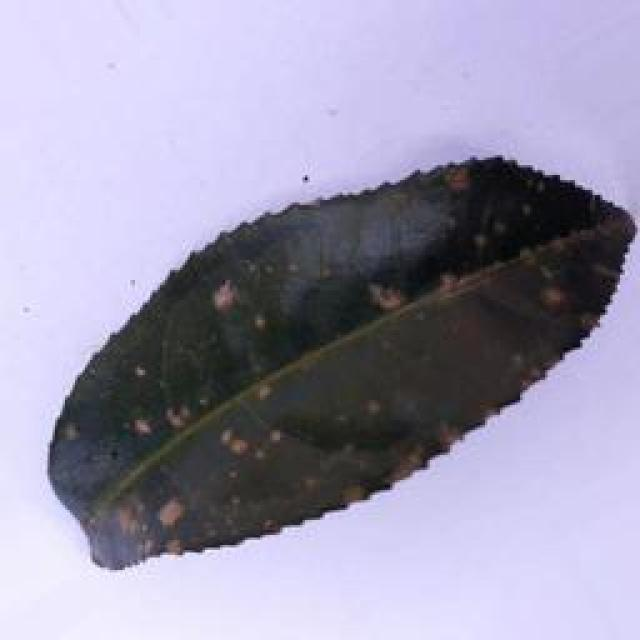Algal Leaf Spot: (35, 141, 640, 565)
